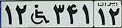character: (28, 2, 52, 26), (14, 2, 28, 27), (53, 2, 66, 28), (79, 2, 93, 26), (66, 2, 79, 27), (2, 2, 14, 27), (107, 7, 122, 27), (96, 7, 106, 27)
